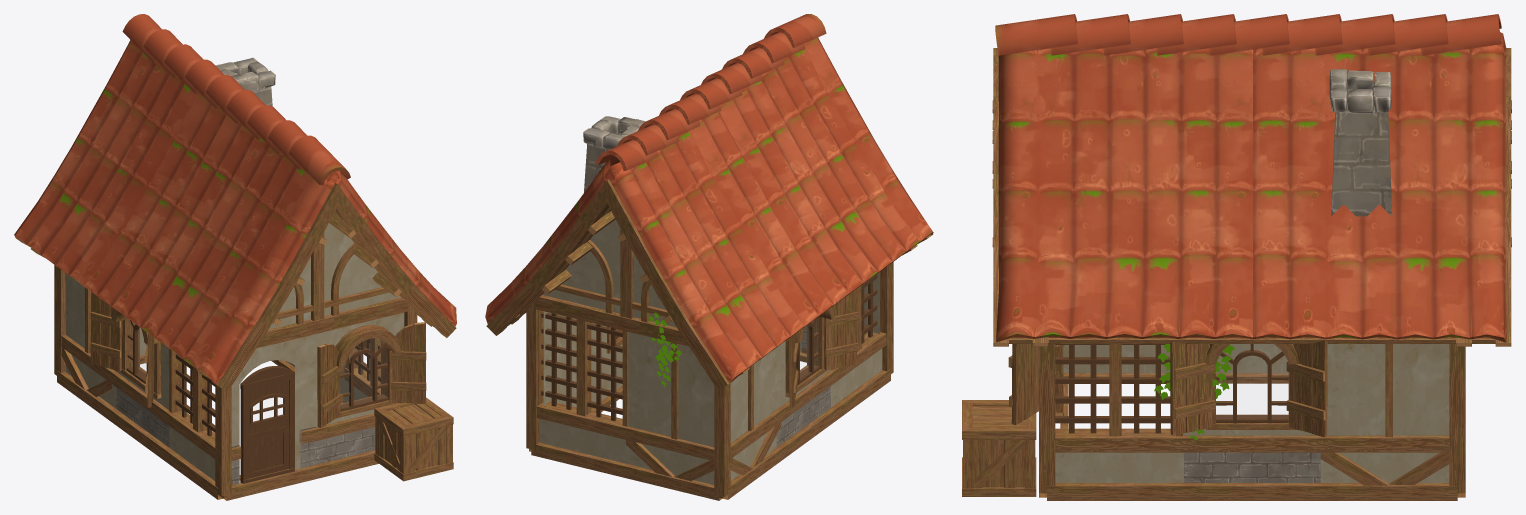
The model's file is cottage.glb.
3 renders of one model, left to right at view 1: azimuth 30°, elevation 25°; view 2: azimuth 150°, elevation 25°; view 3: azimuth 270°, elevation 25°, orthographic. The views are drawn at different scales.
Parts seen in each view (by area): view 1: house-cottage; view 2: house-cottage; view 3: house-cottage.
Part boxes in pixels (x1,y1,x2,y2): house-cottage: [14, 14, 456, 500]; house-cottage: [485, 14, 933, 500]; house-cottage: [962, 14, 1511, 500].
Bounding box in the file's own units: 5.51 × 6.84 × 8.04.
7 materials, 6 textured.
